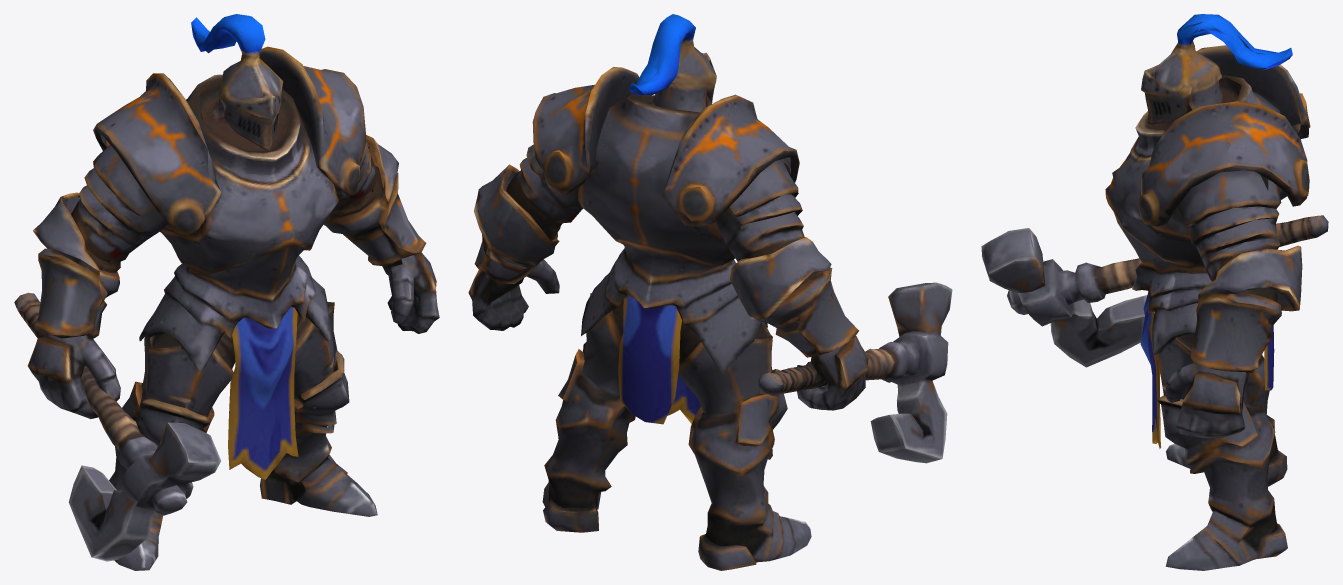
Rendered from iron_colossus_ready.glb.
3 renders of one model, left to right at view 1: azimuth 30°, elevation 25°; view 2: azimuth 150°, elevation 25°; view 3: azimuth 270°, elevation 25°, orthographic. The views are drawn at different scales.
Parts seen in each view (by area): view 1: world; view 2: world; view 3: world.
Part boxes in pixels (<box>): world: <box>14,14,439,570</box>; world: <box>468,14,952,570</box>; world: <box>981,14,1328,570</box>.
Size of the model in its own units: 0.8309 by 1 by 0.6296.
1 material, 1 textured.
